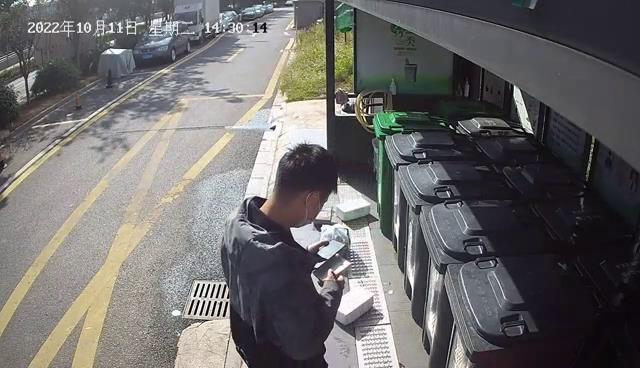person: (220, 142, 344, 368)
suliaozhipin: (320, 224, 351, 250)
zhizhipin: (327, 286, 374, 325), (336, 199, 372, 221), (314, 207, 332, 232)
